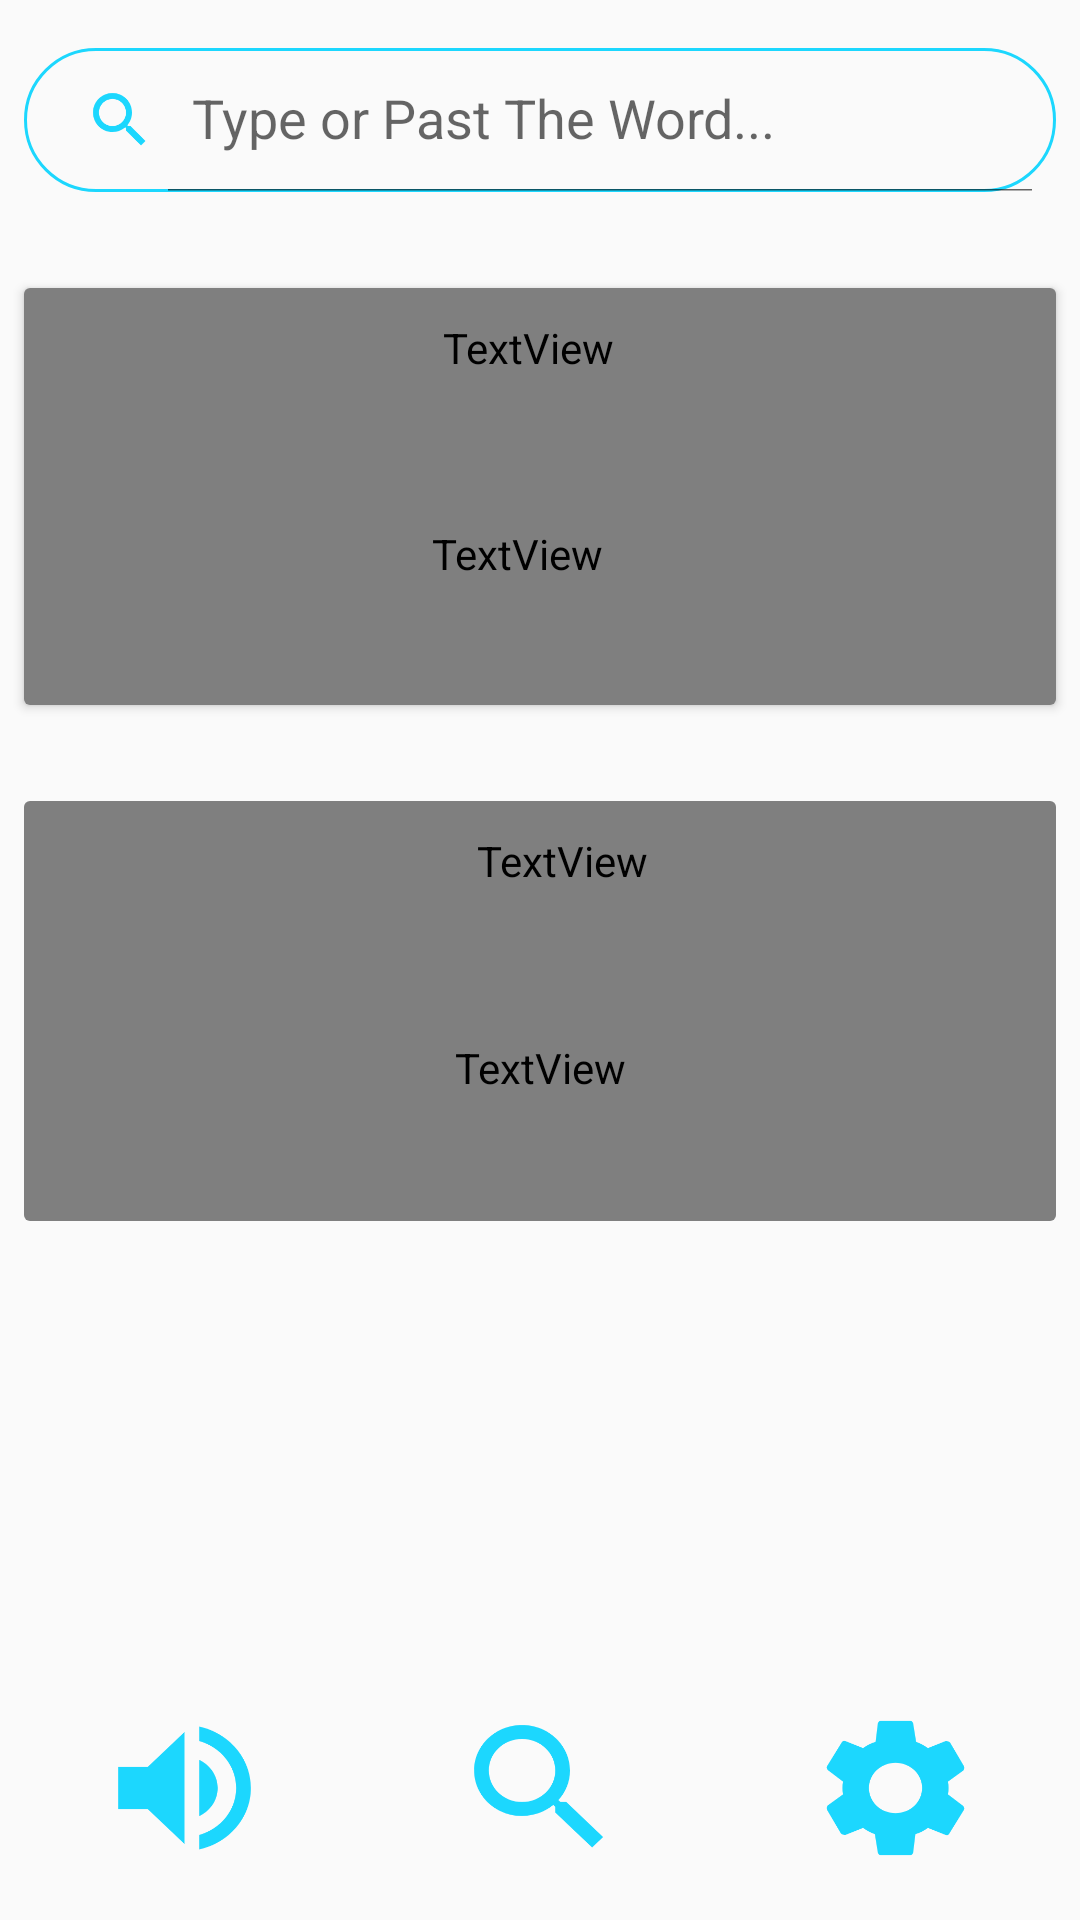

Point at icon controls on the screen. Image size 1080 × 1920, points as (x=x, y=y).
search: (x=538, y=1786)
settings: (x=895, y=1788)
volume: (x=184, y=1788)
